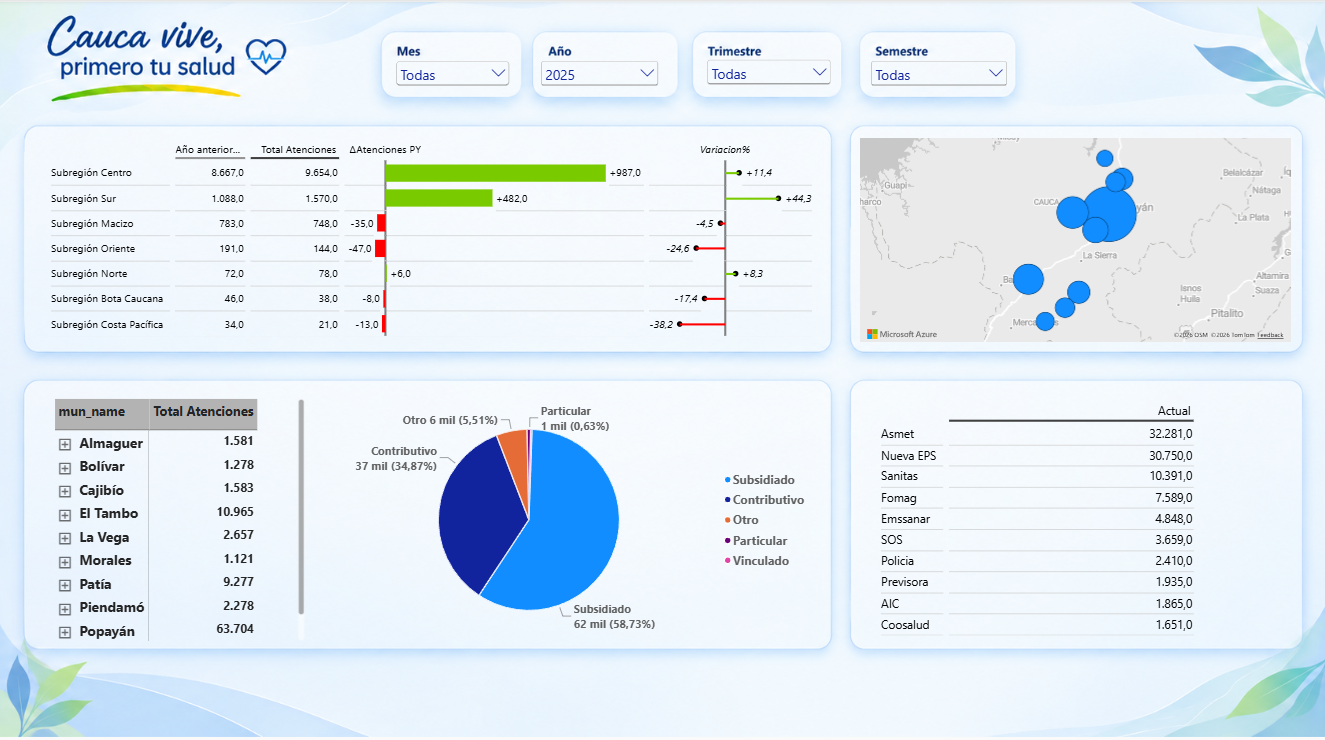

The dashboard page shown, as its layout file describes it:
{"tool":"powerbi","page":{"name":"Página 1","canvas":[1920,1080],"ordinal":0},"visuals":[{"type":"slicer","fields":{"Values":["DIM_TIMES.tim_nom_month"]},"box":[570,85.1,173.7,50.7],"z":0},{"type":"slicer","fields":{"Values":["DIM_TIMES.tim_year"]},"box":[780,85.1,179.2,47.1],"z":1000},{"type":"slicer","fields":{"Values":["DIM_TIMES.tim_nom_quarter"]},"box":[1020.6,83.2,188.2,48.9],"z":2000},{"type":"slicer","fields":{"Values":["DIM_TIMES.tim_nom_semester"]},"box":[1257.7,85.1,206.3,47.1],"z":3000},{"type":"azureMap","fields":{"Category":["DIM_MUNICIPALITIES.Municipio Mapa"],"Size":["Medidas.Total Atenciones"]},"box":[1230.6,186.4,655.1,325.7],"z":4000},{"type":"ZebraBITablesBAE31B370F254F808553548EFB35BFA5","fields":{"Category":["DIM_MUNICIPALITIES.mun_subregion","DIM_DIAGNOSIS.diag_diagnostic_name"],"Values":["Medidas.Total Atenciones"],"PreviousYear":["Medidas.Atenciones PY"]},"box":[43.4,186.4,1165.4,325.7],"z":5000},{"type":"pivotTable","fields":{"Rows":["DIM_MUNICIPALITIES.mun_name","DIM_PATIENT_PROFILE.pat_age_range"],"Values":["Medidas.Total Atenciones"]},"box":[65.1,564.6,392.7,380],"z":6000},{"type":"pieChart","fields":{"Category":["DIM_PATIENT_PROFILE.pat_patient_type"],"Y":["Medidas.Total Atenciones"]},"box":[470.5,564.6,720.2,380],"z":7000},{"type":"ZebraBITablesBAE31B370F254F808553548EFB35BFA5","fields":{"Category":["DIM_ASSURANCE.as_group","DIM_ASSURANCE.as_eapb_name"],"Values":["Medidas.Total Atenciones"]},"box":[1245,564.6,640.6,380],"z":7001}]}

Visuals, with their boxes in screenshot pixels (x1, y1, x2, y2), scaled from the page's 1920x1080 canvas onto the 1325x740 screenshot:
slicer - DIM_TIMES.tim_nom_month: bbox=(393, 58, 513, 93)
slicer - DIM_TIMES.tim_year: bbox=(538, 58, 662, 91)
slicer - DIM_TIMES.tim_nom_quarter: bbox=(704, 57, 834, 91)
slicer - DIM_TIMES.tim_nom_semester: bbox=(868, 58, 1010, 91)
azureMap - DIM_MUNICIPALITIES.Municipio Mapa x Medidas.Total Atenciones: bbox=(849, 128, 1301, 351)
ZebraBITablesBAE31B370F254F808553548EFB35BFA5 - DIM_MUNICIPALITIES.mun_subregion x DIM_DIAGNOSIS.diag_diagnostic_name: bbox=(30, 128, 834, 351)
pivotTable - DIM_MUNICIPALITIES.mun_name x DIM_PATIENT_PROFILE.pat_age_range: bbox=(45, 387, 316, 647)
pieChart - DIM_PATIENT_PROFILE.pat_patient_type x Medidas.Total Atenciones: bbox=(325, 387, 822, 647)
ZebraBITablesBAE31B370F254F808553548EFB35BFA5 - DIM_ASSURANCE.as_group x DIM_ASSURANCE.as_eapb_name: bbox=(859, 387, 1301, 647)
